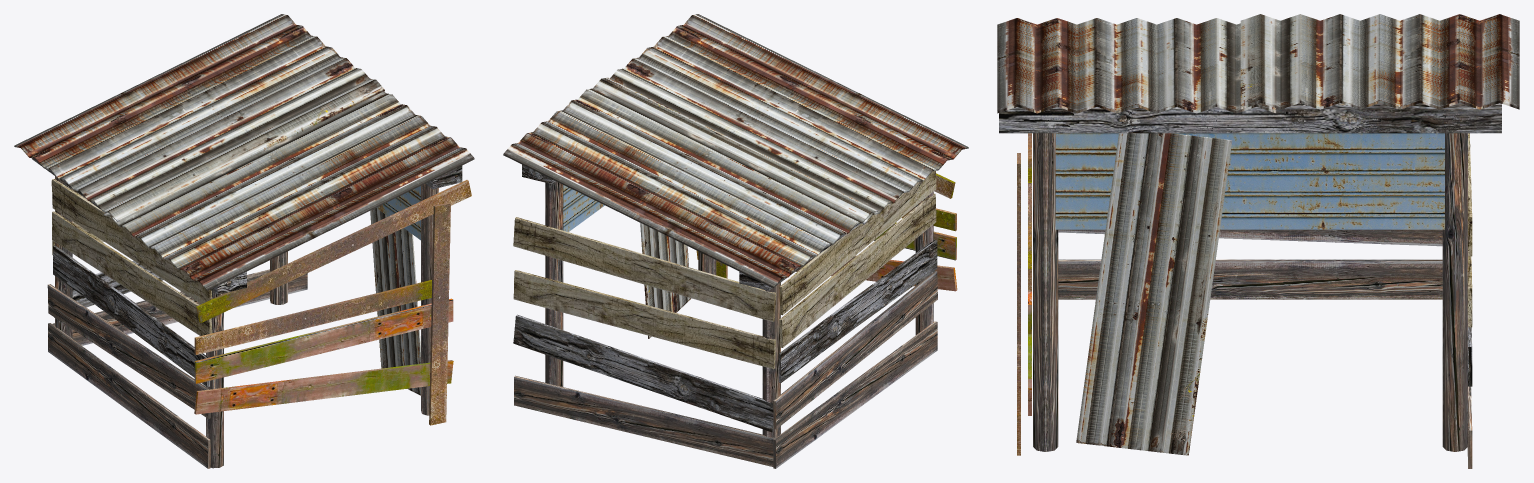
Rendered from shack_02.fbx.
3 renders of one model, left to right at view 1: azimuth 30°, elevation 25°; view 2: azimuth 150°, elevation 25°; view 3: azimuth 270°, elevation 25°, orthographic. The views are drawn at different scales.
Parts seen in each view (by area): view 1: shack_02; view 2: shack_02; view 3: shack_02.
Part boxes in pixels (bbox=[...]): shack_02: bbox=[14, 14, 474, 468]; shack_02: bbox=[503, 14, 968, 468]; shack_02: bbox=[997, 14, 1519, 468].
Size of the model in its own units: 3.53 by 3.3 by 4.25.
